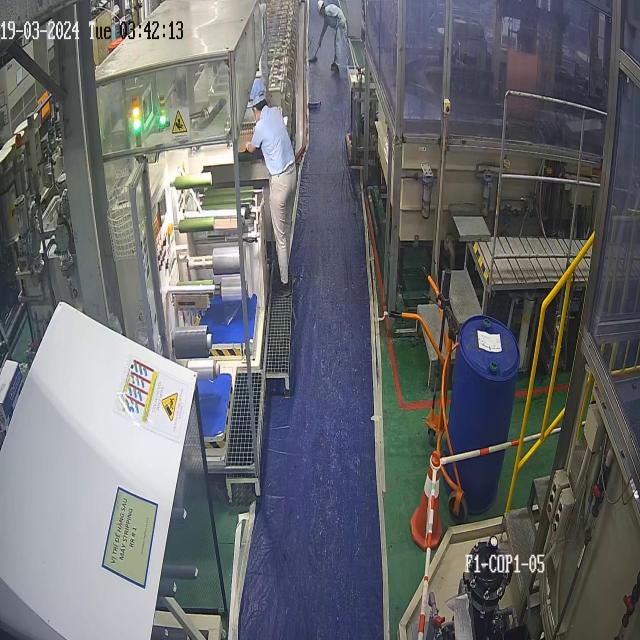Person: (244, 78, 297, 294), (316, 0, 354, 71)
